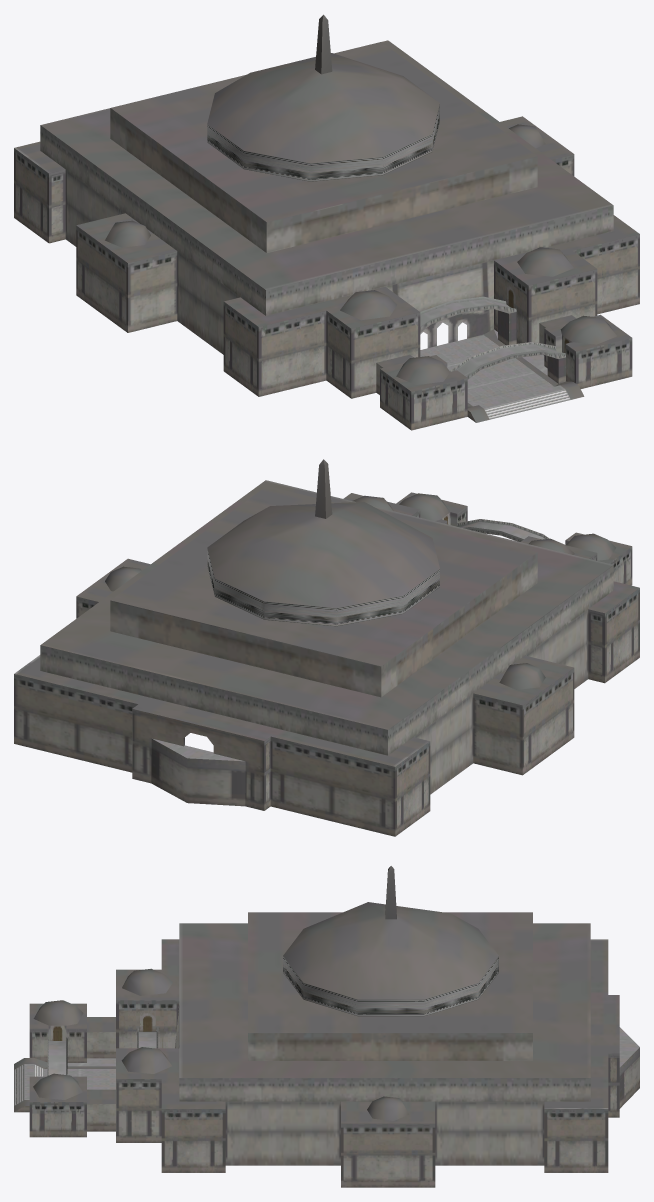
Rendered from mun_all_capitol_s01_r0_mesh_l3.fbx.
3 renders of one model, top to bottom at view 1: azimuth 30°, elevation 25°; view 2: azimuth 150°, elevation 25°; view 3: azimuth 270°, elevation 25°, orthographic. The views are drawn at different scales.
Visible parts, largest first — view 1: mesh_node; view 2: mesh_node; view 3: mesh_node.
Part boxes in pixels (left/top/right/bottom): mesh_node: left=14, top=14, right=639, bottom=430; mesh_node: left=14, top=459, right=639, bottom=836; mesh_node: left=14, top=866, right=639, bottom=1187.
Size of the model in its own units: 82.46 by 43.08 by 110.
